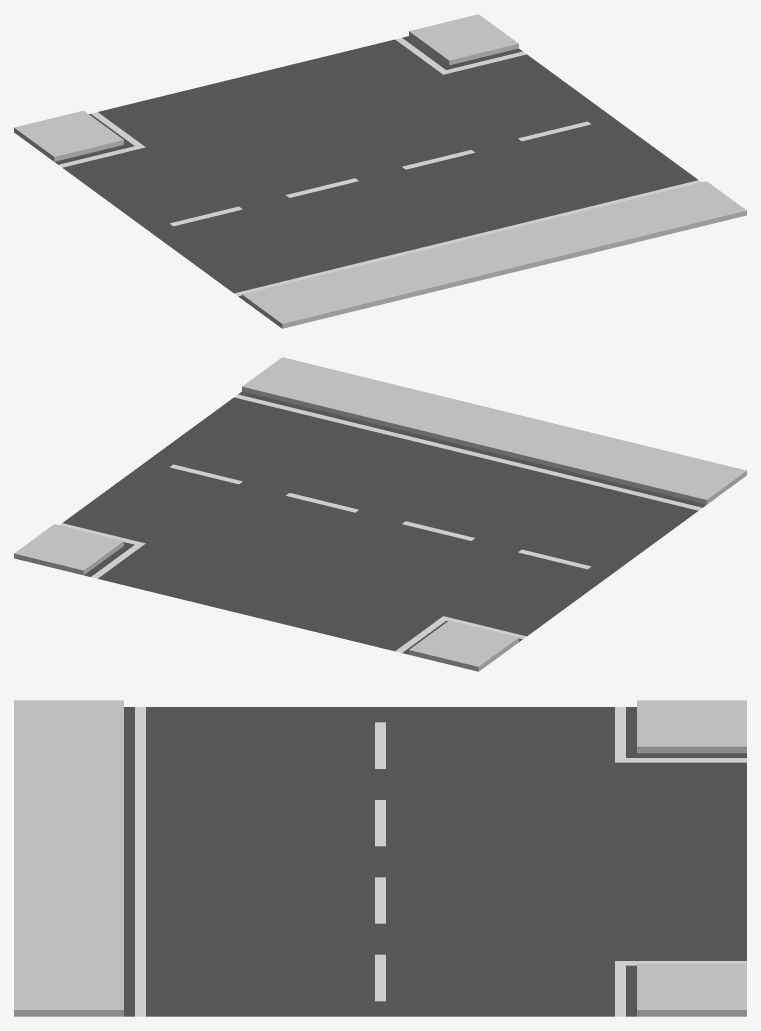
The model's file is SPW_Urban_Road 2way_05.gltf.
3 renders of one model, top to bottom at view 1: azimuth 30°, elevation 25°; view 2: azimuth 150°, elevation 25°; view 3: azimuth 270°, elevation 25°, orthographic. The views are drawn at different scales.
Parts seen in each view (by area): view 1: SPW_Urban_Road_2way_05; view 2: SPW_Urban_Road_2way_05; view 3: SPW_Urban_Road_2way_05.
Part boxes in pixels (x1,y1,x2,y2): SPW_Urban_Road_2way_05: (14, 14, 746, 328); SPW_Urban_Road_2way_05: (14, 357, 746, 671); SPW_Urban_Road_2way_05: (14, 700, 746, 1016).
Bounding box in the file's own units: 787 × 7.87 × 787.
1 material, 1 textured.
